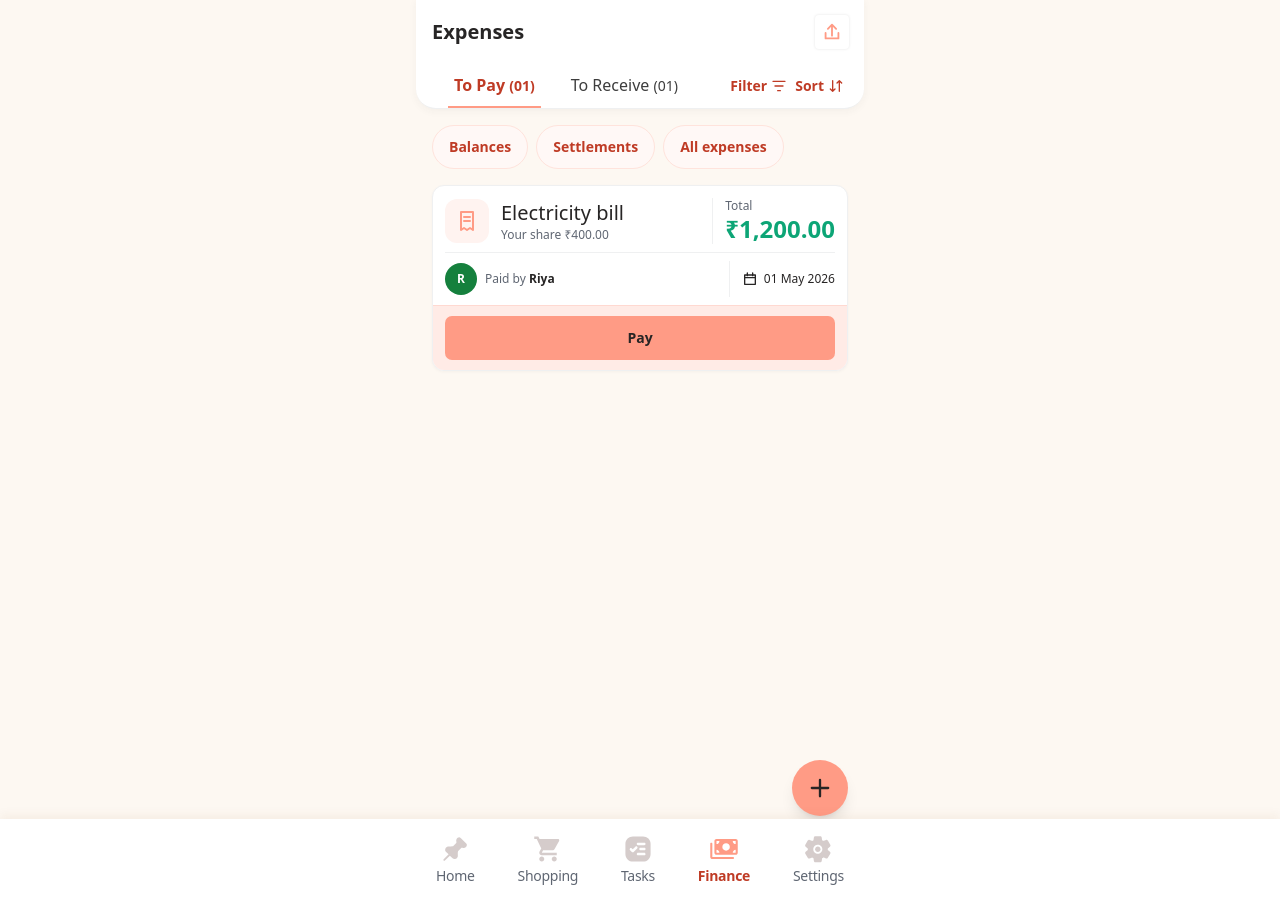
Test: Expenses tab › splits what I owe from what I am owed, with padded counts, and never shows one house balance
The image size is (1280, 900).
Expected: the link "To Pay (01)" is shown, [448, 64, 541, 108]
Expected: the text "Electricity bill" is shown, [501, 198, 624, 226]
Click the link "To Receive (01)" at (624, 85), box [571, 74, 678, 96]
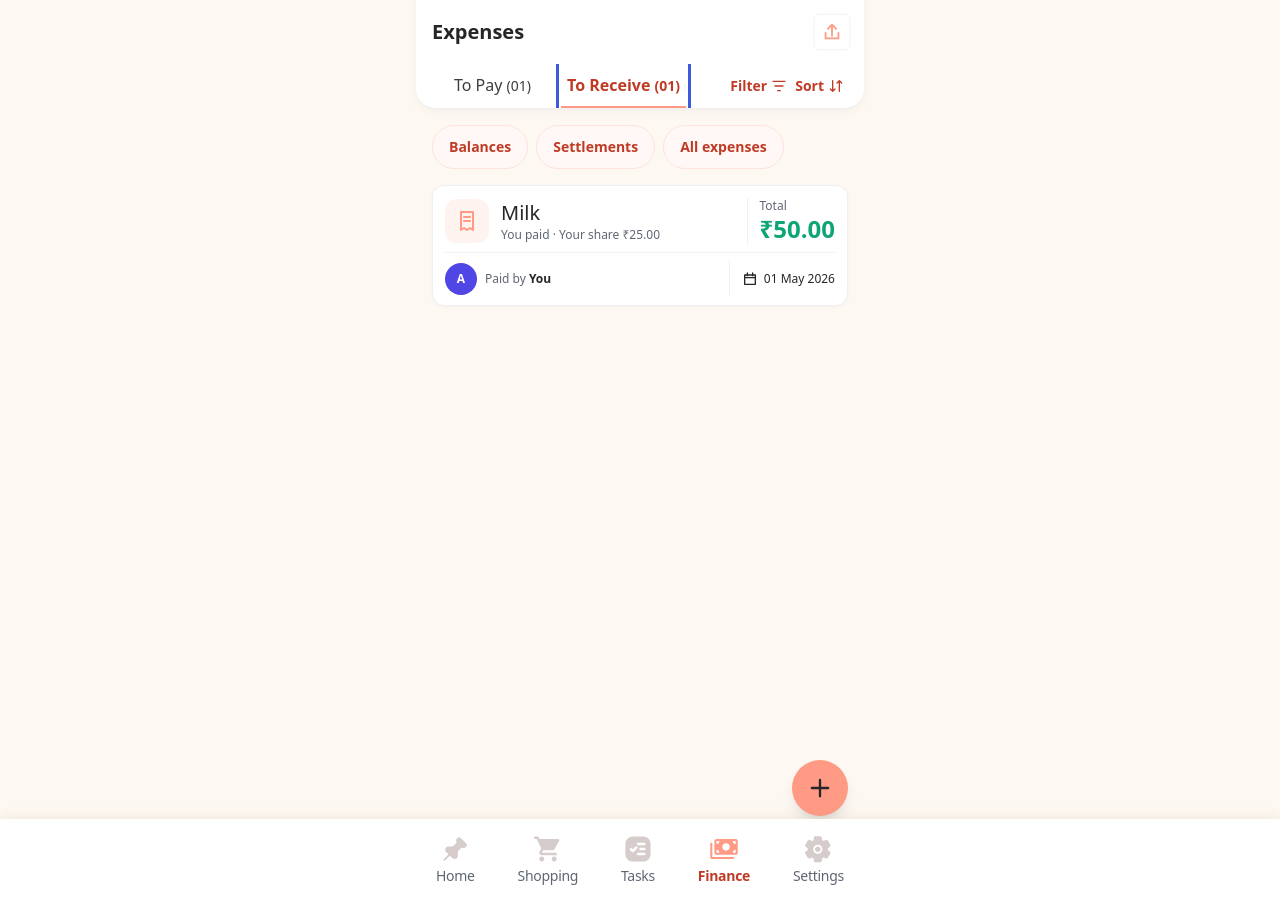
Now the text "Milk" is shown, box [501, 198, 540, 226]
Now the link "Electricity bill" is gone
